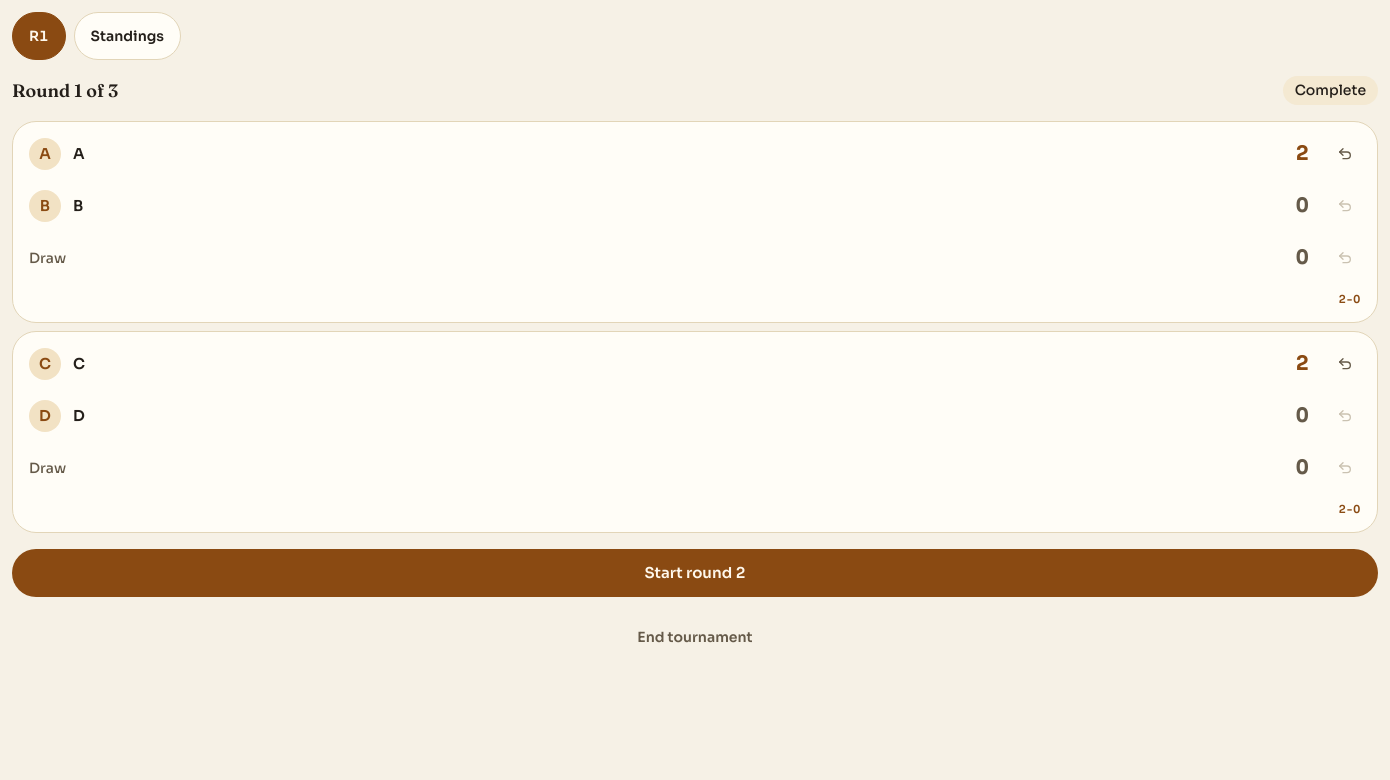
Test: SwissScreen › advances to the next round once the current one is done
Click the button "Start round 2" at (695, 573), box [12,549,1378,597]
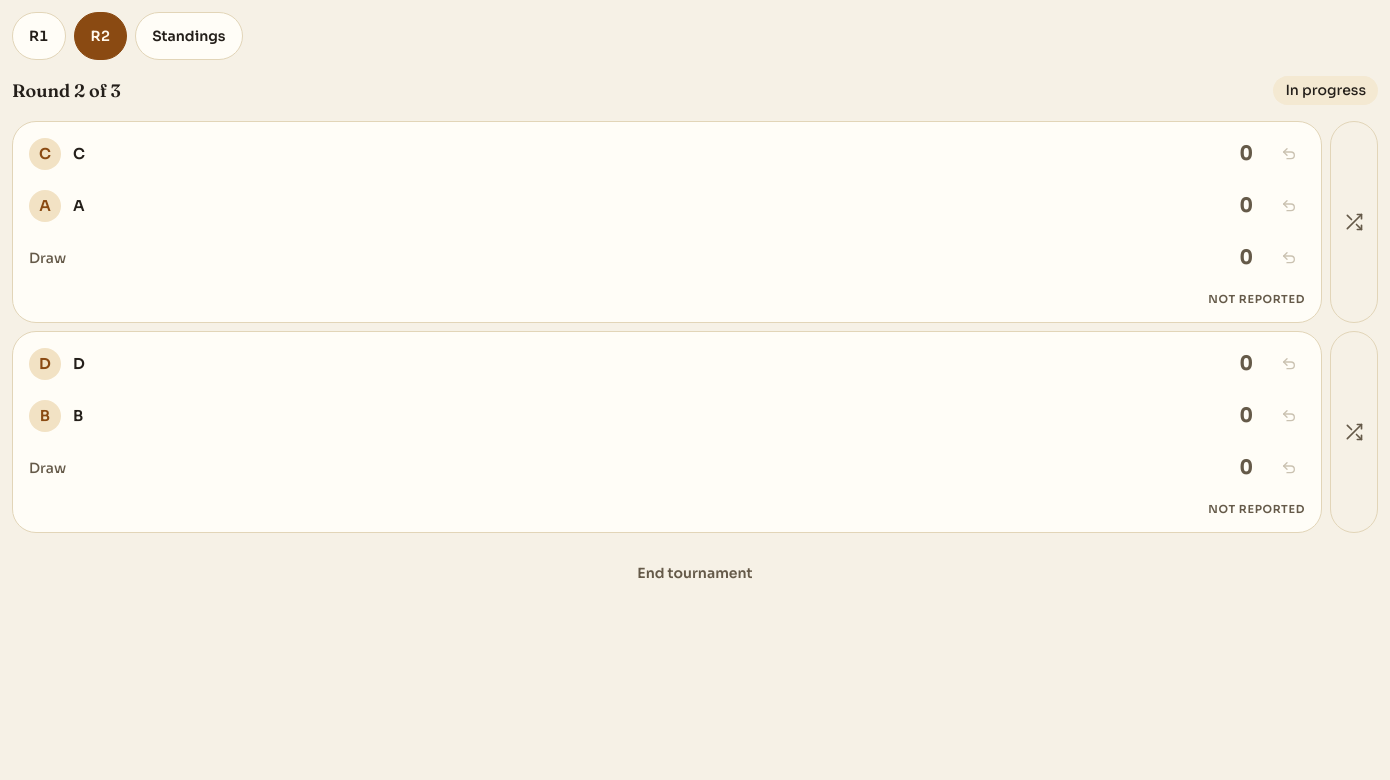
Now the heading "Round 2 of 3" is shown, box [12,77,121,104]
Now the button "R2" is shown, box [74,12,127,60]
